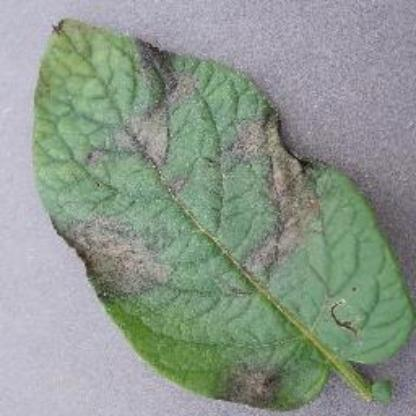Late-Blight: (32, 8, 414, 406)
